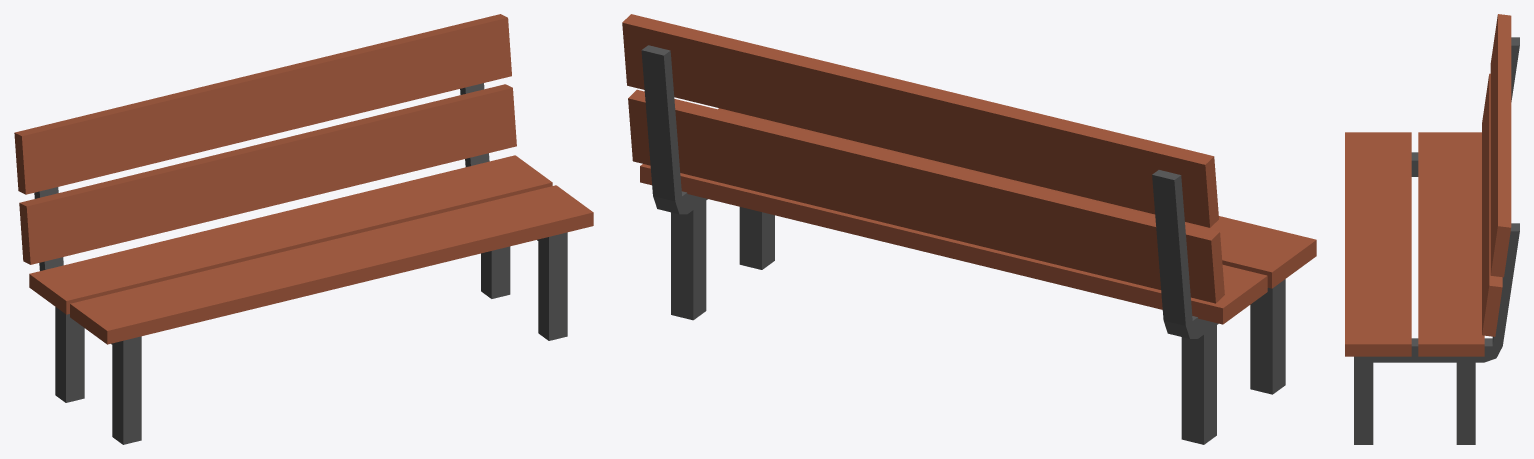
File: Bench_01.fbx
The picture shows the model from 3 angles, left to right: view 1: azimuth 30°, elevation 25°; view 2: azimuth 150°, elevation 25°; view 3: azimuth 270°, elevation 25°; orthographic projection. The views are drawn at different scales.
Parts seen in each view (by area): view 1: Bench_01; view 2: Bench_01; view 3: Bench_01.
Part boxes in pixels (bbox=[...]): Bench_01: bbox=[14, 14, 593, 444]; Bench_01: bbox=[622, 14, 1316, 444]; Bench_01: bbox=[1345, 14, 1519, 444].
Bounding box in the file's own units: 193 × 96.91 × 67.39.
